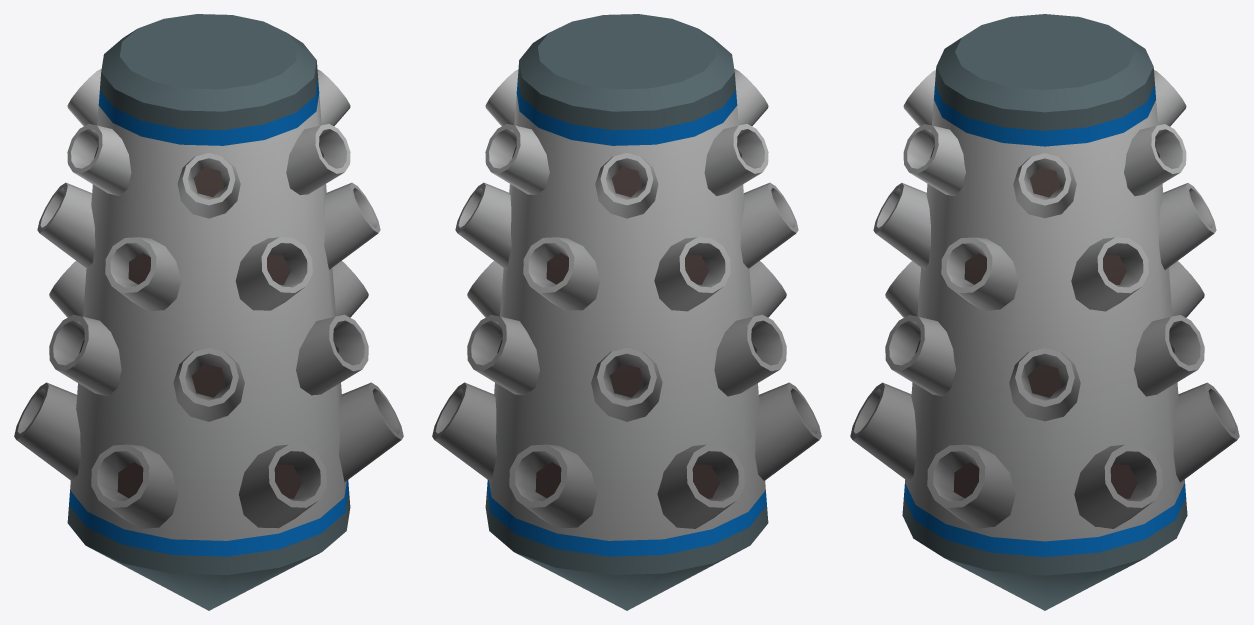
File: Mini_farm_003_Part_01.fbx
3 views of the same model, side by side, from view 1: azimuth 30°, elevation 25°; view 2: azimuth 150°, elevation 25°; view 3: azimuth 270°, elevation 25° (orthographic).
Visible parts, largest first — view 1: Mini_farm_003_Part_01; view 2: Mini_farm_003_Part_01; view 3: Mini_farm_003_Part_01.
Part boxes in pixels (x1=…): Mini_farm_003_Part_01: x1=14, y1=14, x2=403, y2=610; Mini_farm_003_Part_01: x1=432, y1=14, x2=821, y2=610; Mini_farm_003_Part_01: x1=850, y1=14, x2=1239, y2=610.
Size of the model in its own units: 122 by 134 by 212.
